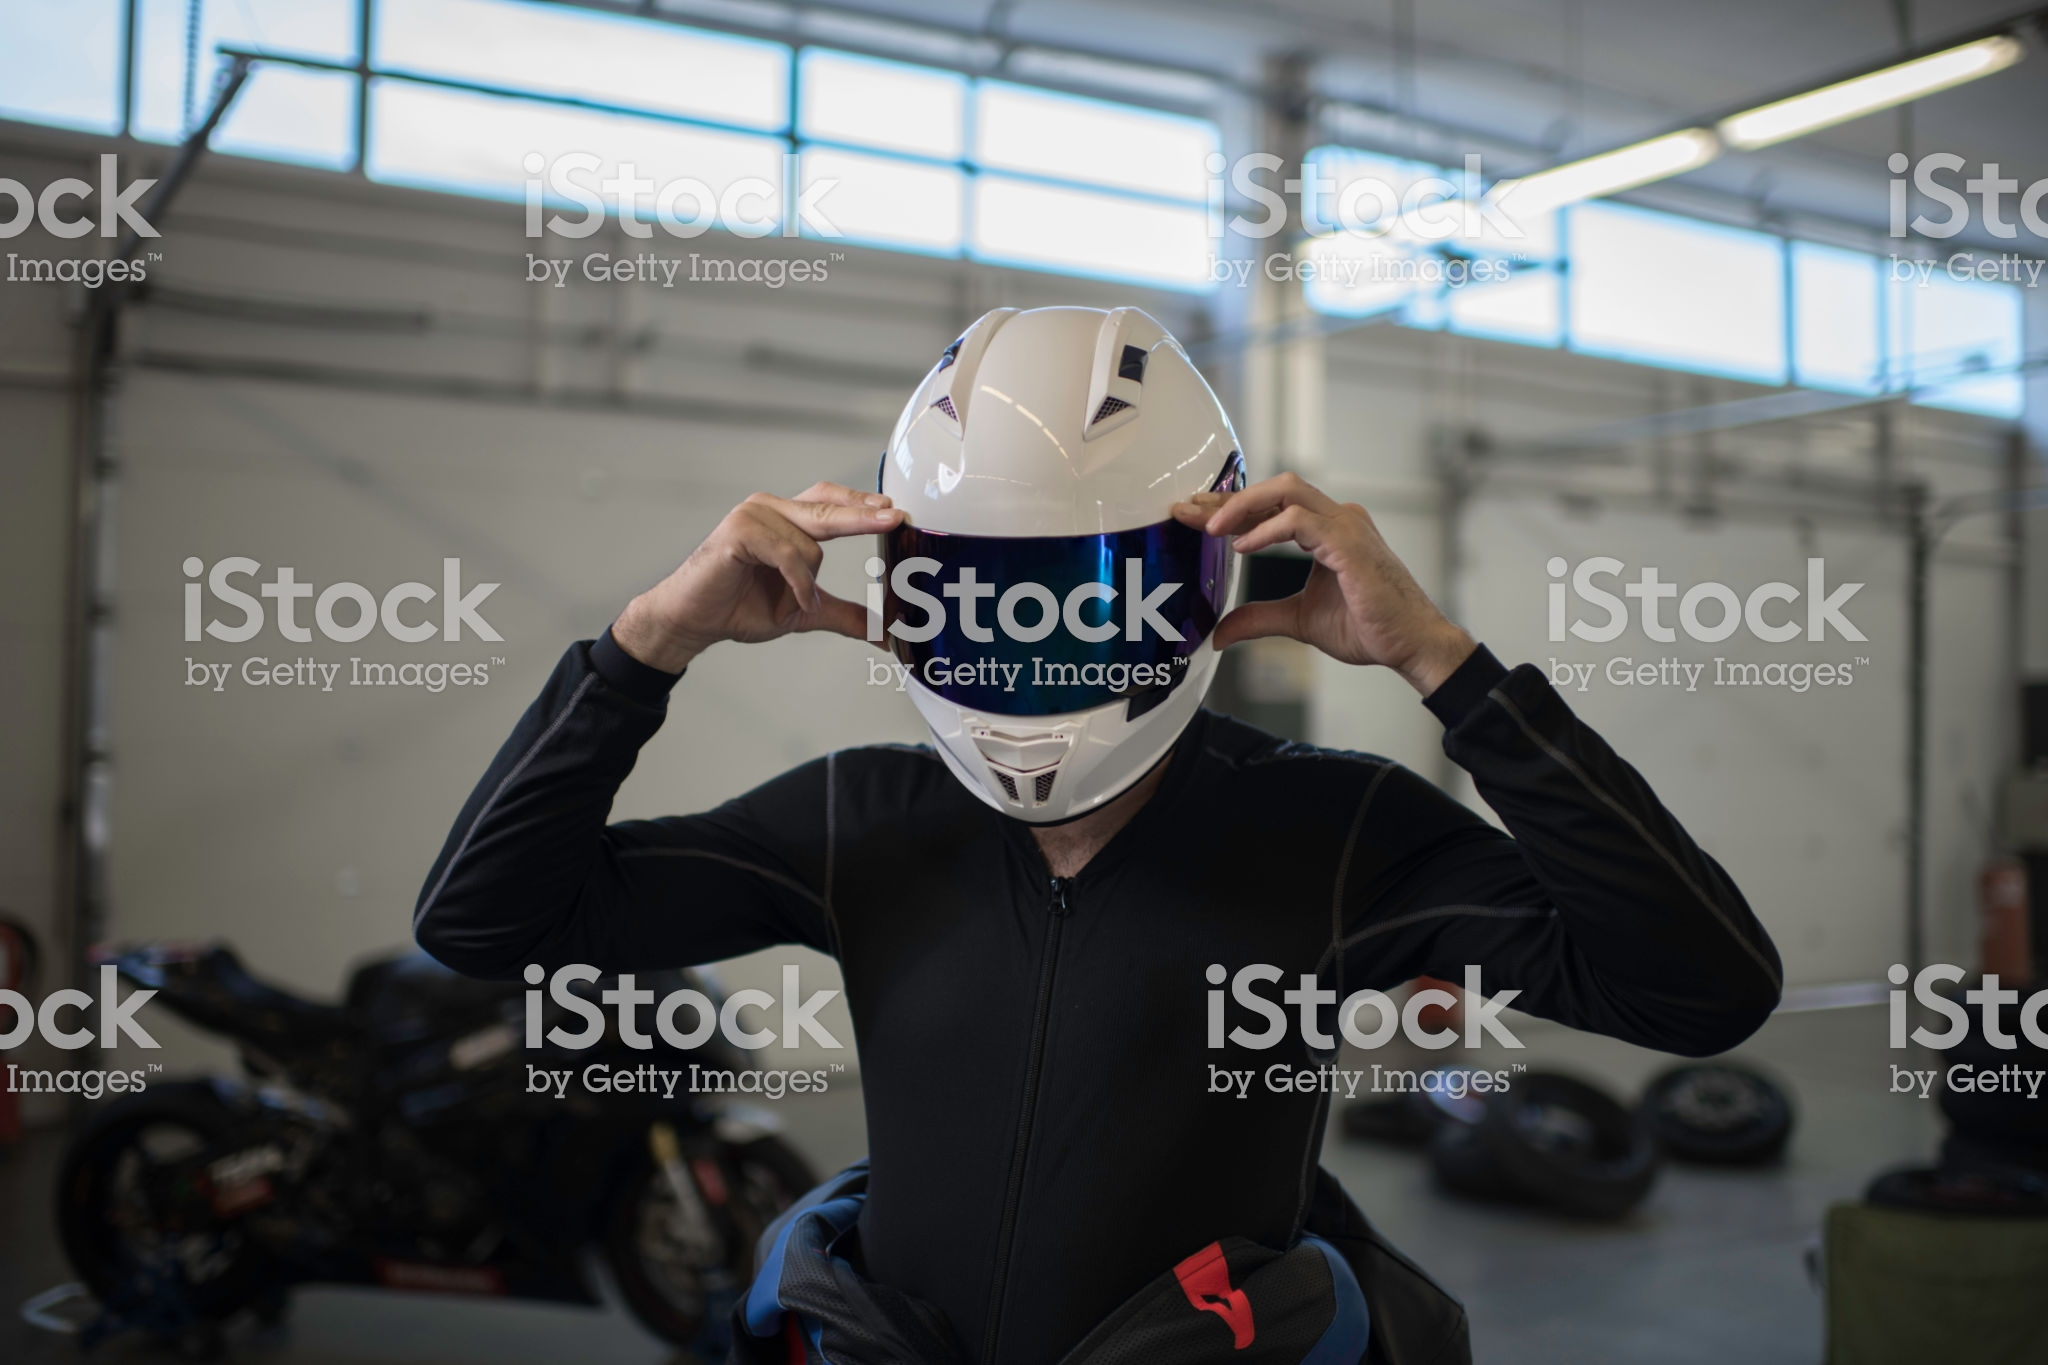helmet: (822, 296, 1229, 838)
